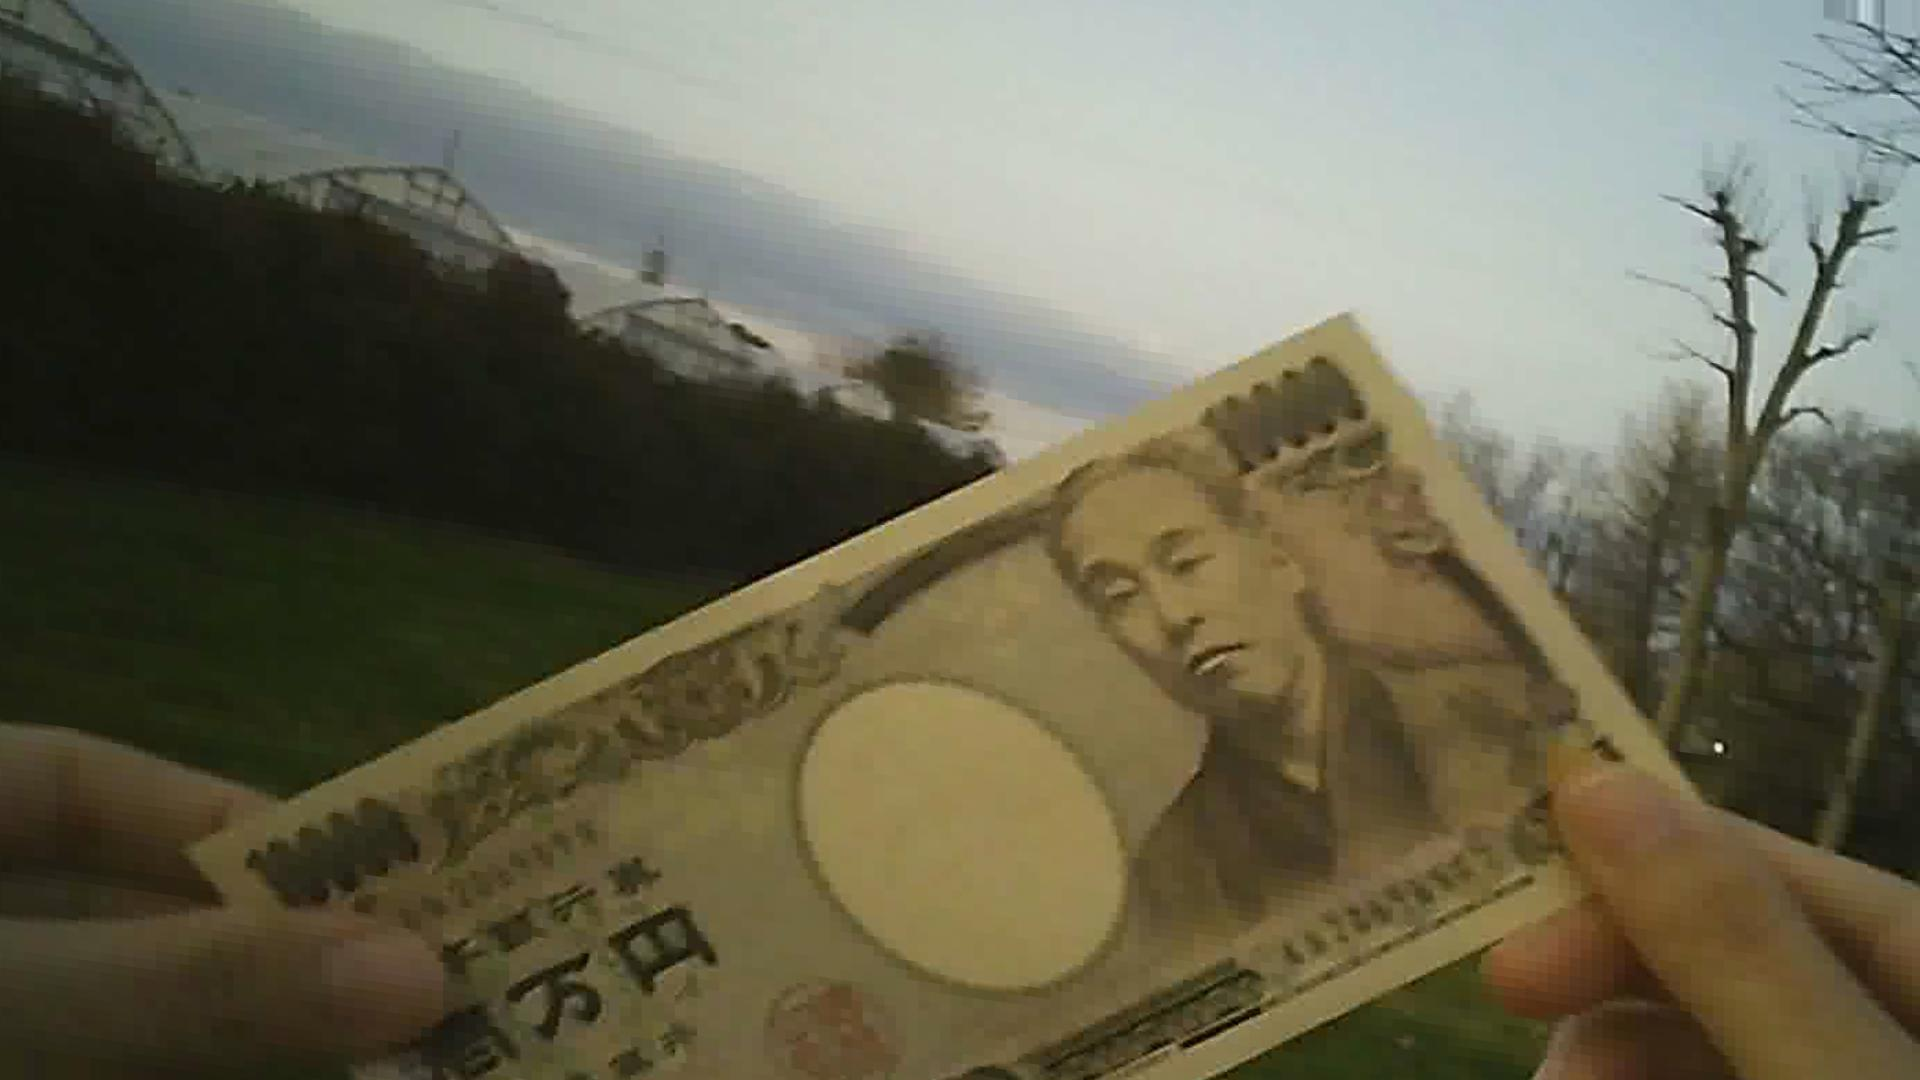10,000 Yen: (189, 286, 1760, 1060)
